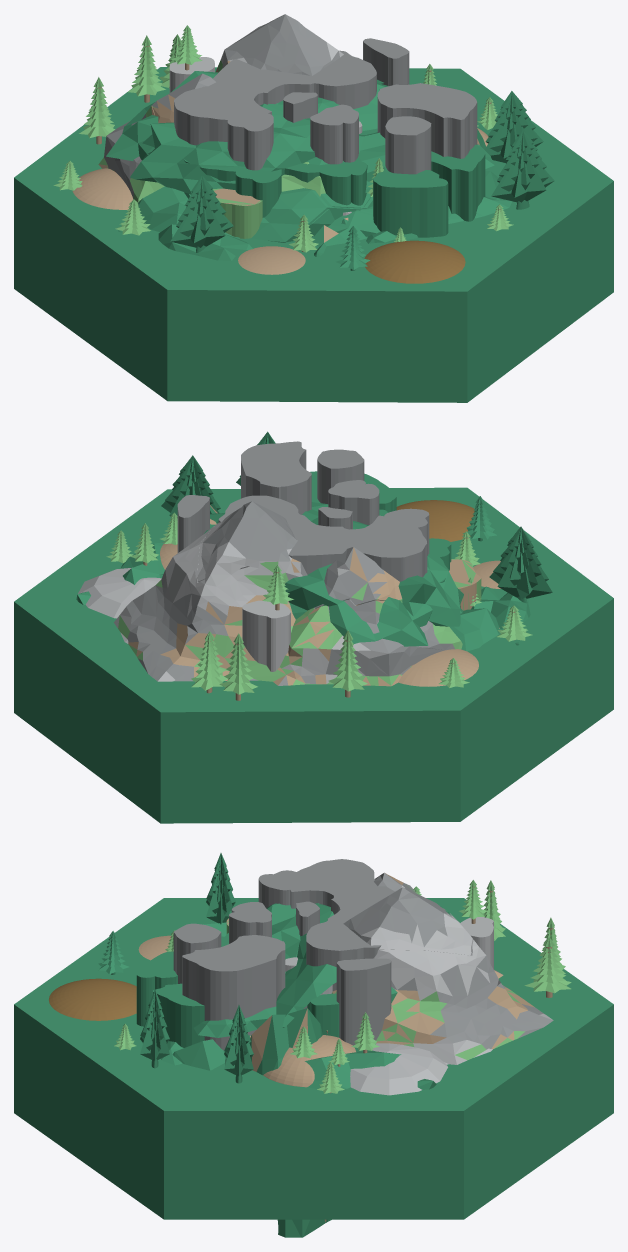
The model's file is mounts_2.glb.
The picture shows the model from 3 angles, top to bottom: view 1: azimuth 30°, elevation 25°; view 2: azimuth 150°, elevation 25°; view 3: azimuth 270°, elevation 25°; orthographic projection. The views are drawn at different scales.
Parts seen in each view (by area): view 1: Mesh_Mesh_head_geo.001_lambert2SG.001; view 2: Mesh_Mesh_head_geo.001_lambert2SG.001; view 3: Mesh_Mesh_head_geo.001_lambert2SG.001.
Boxes of the visible parts, x1=… form: Mesh_Mesh_head_geo.001_lambert2SG.001: x1=14, y1=14, x2=613, y2=402; Mesh_Mesh_head_geo.001_lambert2SG.001: x1=14, y1=431, x2=613, y2=823; Mesh_Mesh_head_geo.001_lambert2SG.001: x1=14, y1=853, x2=613, y2=1237.
Size of the model in its own units: 84 by 49 by 100.
